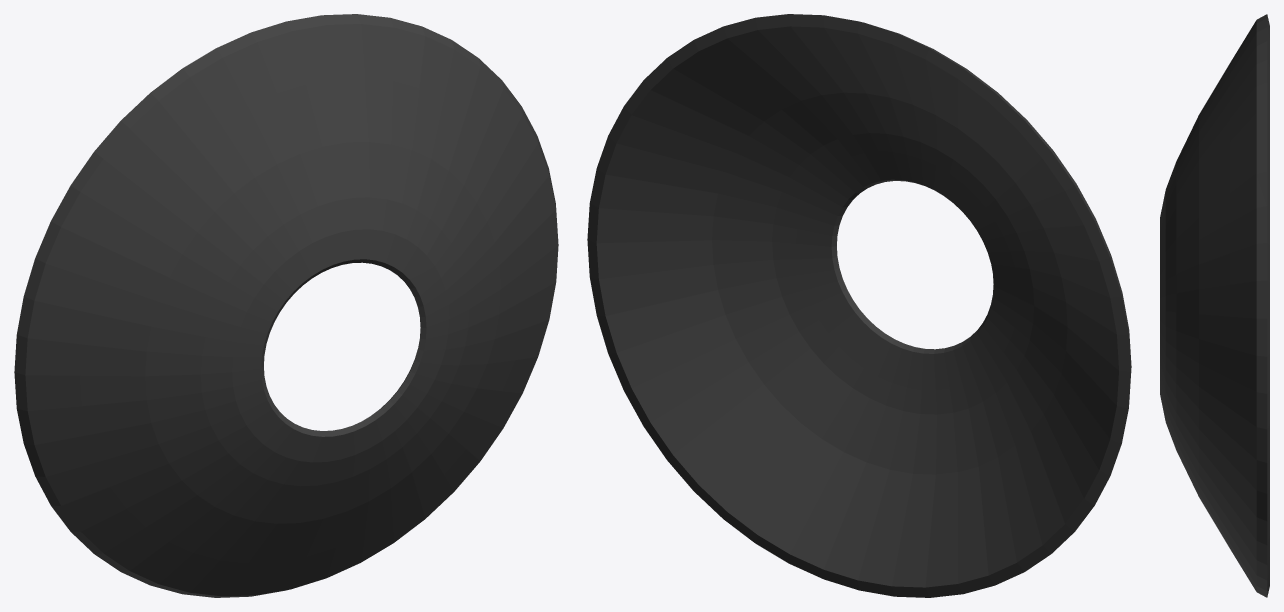
The model's file is Iris.glb.
3 renders of one model, left to right at view 1: azimuth 30°, elevation 25°; view 2: azimuth 150°, elevation 25°; view 3: azimuth 270°, elevation 25°, orthographic. The views are drawn at different scales.
Parts seen in each view (by area): view 1: Iris; view 2: Iris; view 3: Iris.
Boxes of the visible parts, x1,y1,x2,y2 form: Iris: (14, 14, 558, 597); Iris: (587, 14, 1131, 597); Iris: (1160, 14, 1269, 597).
Bounding box in the file's own units: 1.82 × 1.82 × 0.3409.
1 material, 1 textured.
